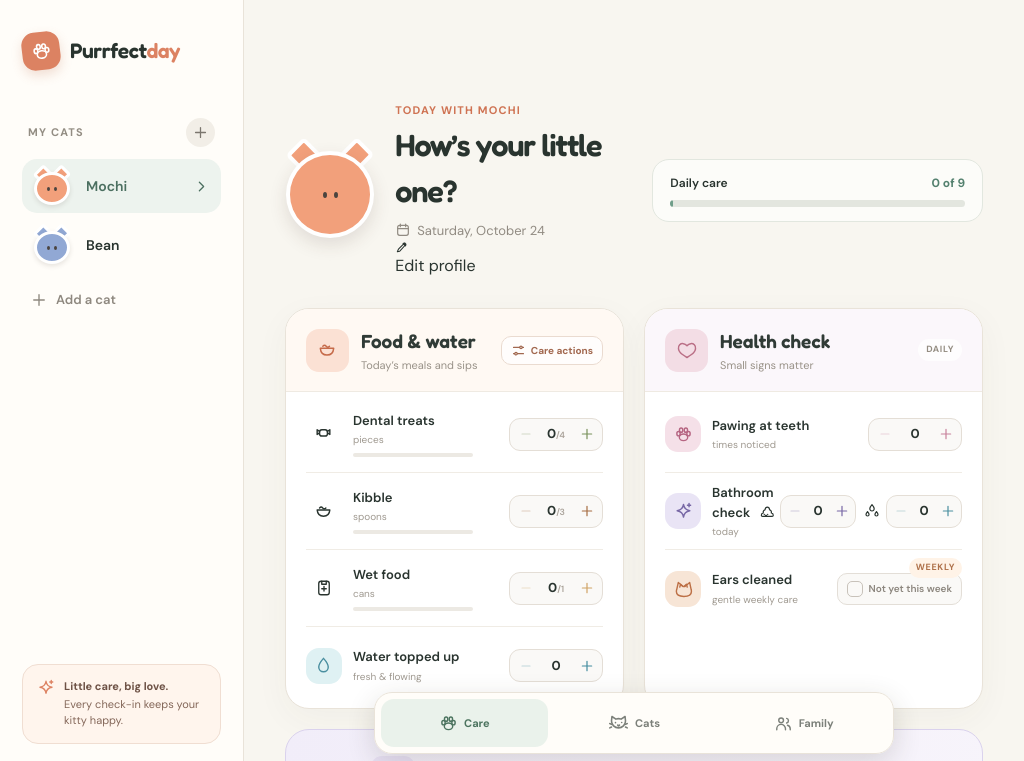
Scenario: tracking and family navigation › labels the new-cat photo picker simply
The width and height of the screenshot is (1024, 761).
What coordinates should you click on to do the following:
click the button named "Add a cat"
I would click on:
 (200, 132)
Its box is x1=186 y1=118 x2=215 y2=147.
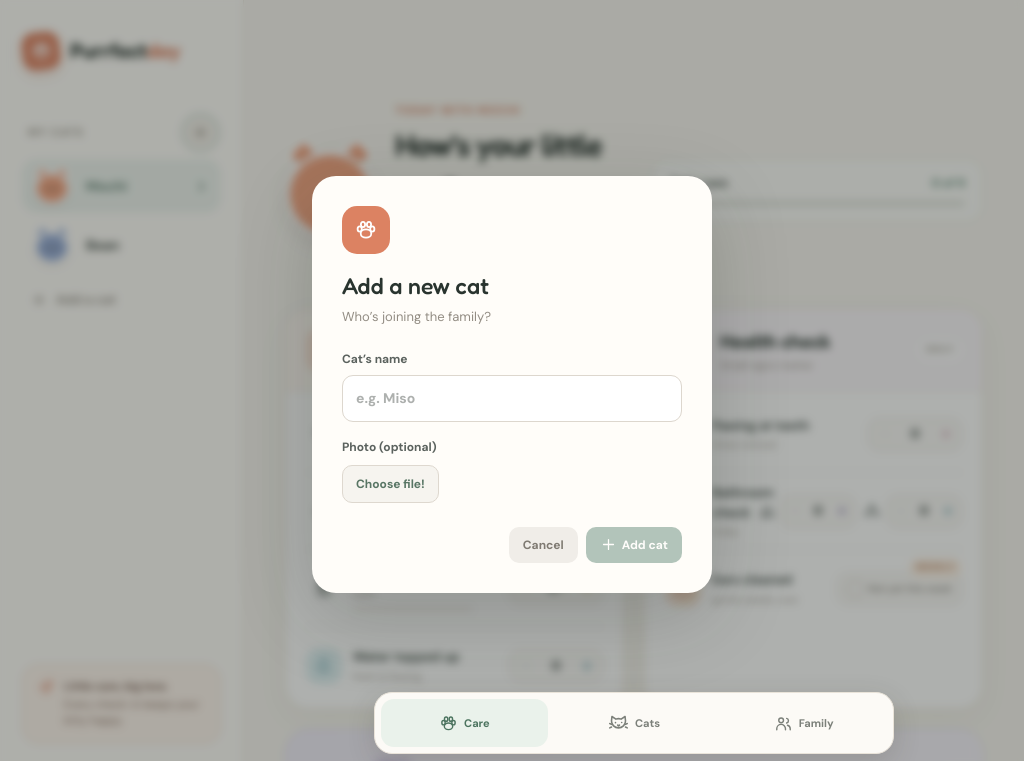
Now the text "Choose file!" is shown, box x1=342 y1=464 x2=439 y2=502
Now the button "Add cat" is shown, box x1=586 y1=526 x2=682 y2=562
